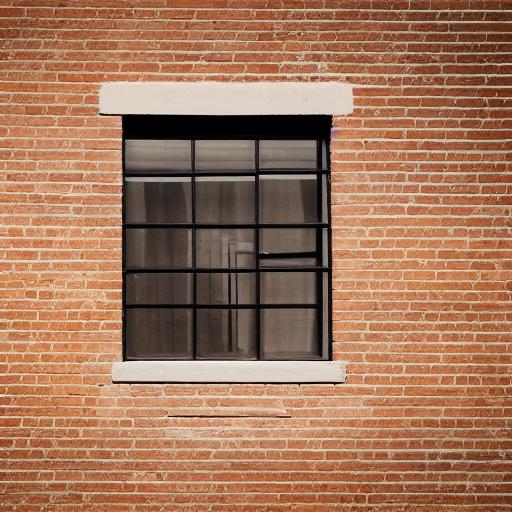Window: (97, 82, 356, 387)
